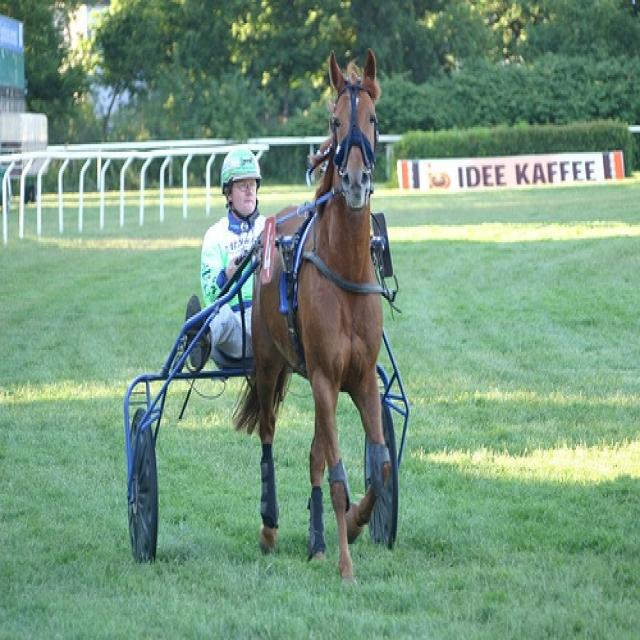horse: (230, 43, 395, 587)
person: (186, 141, 269, 368)
